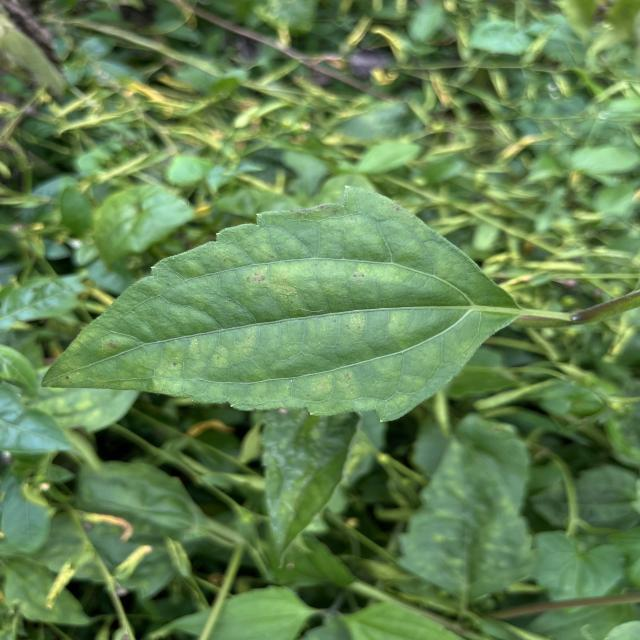Chromolaena odorata: (38, 182, 524, 426)
